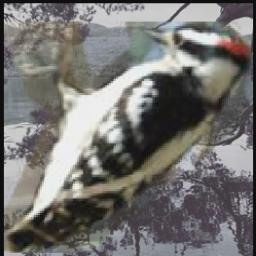Woodpecker: (4, 22, 251, 253)
